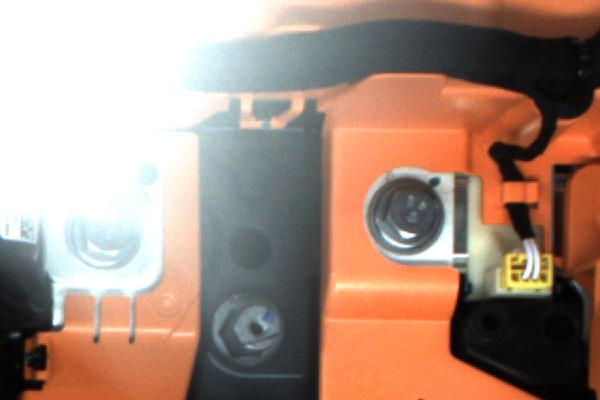nut_b: (361, 173, 448, 254)
